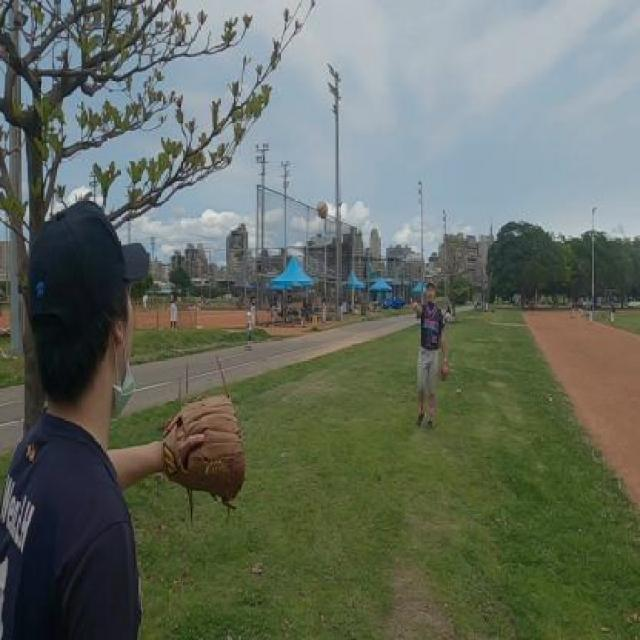baseball: (317, 199, 328, 219)
